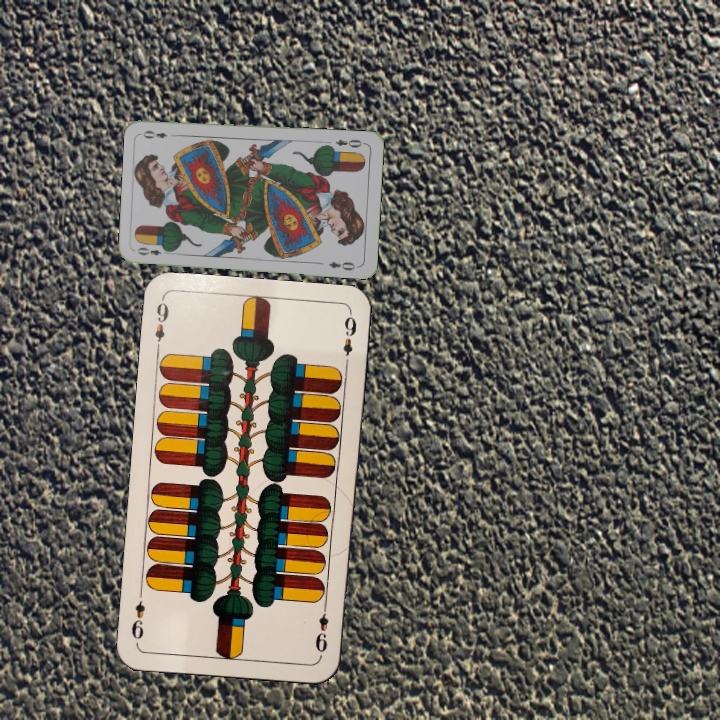E9: (150, 296, 171, 355), (311, 599, 331, 658)
EO: (133, 243, 173, 258), (332, 135, 368, 150)
